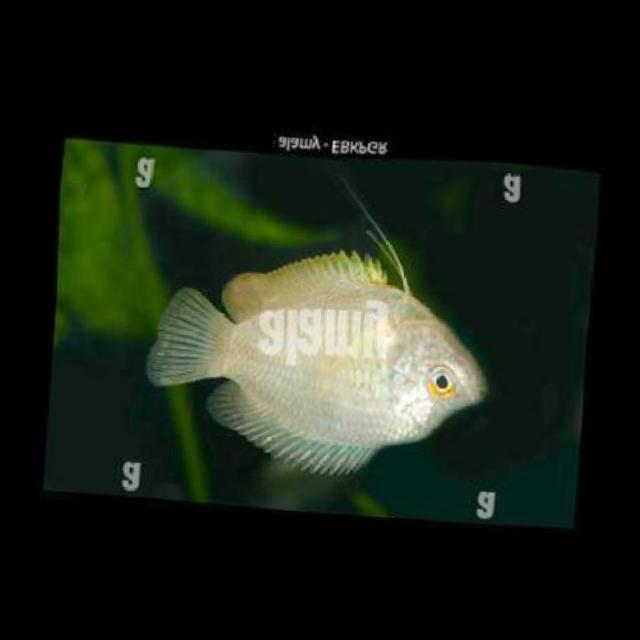Gourami: (138, 239, 496, 486)
